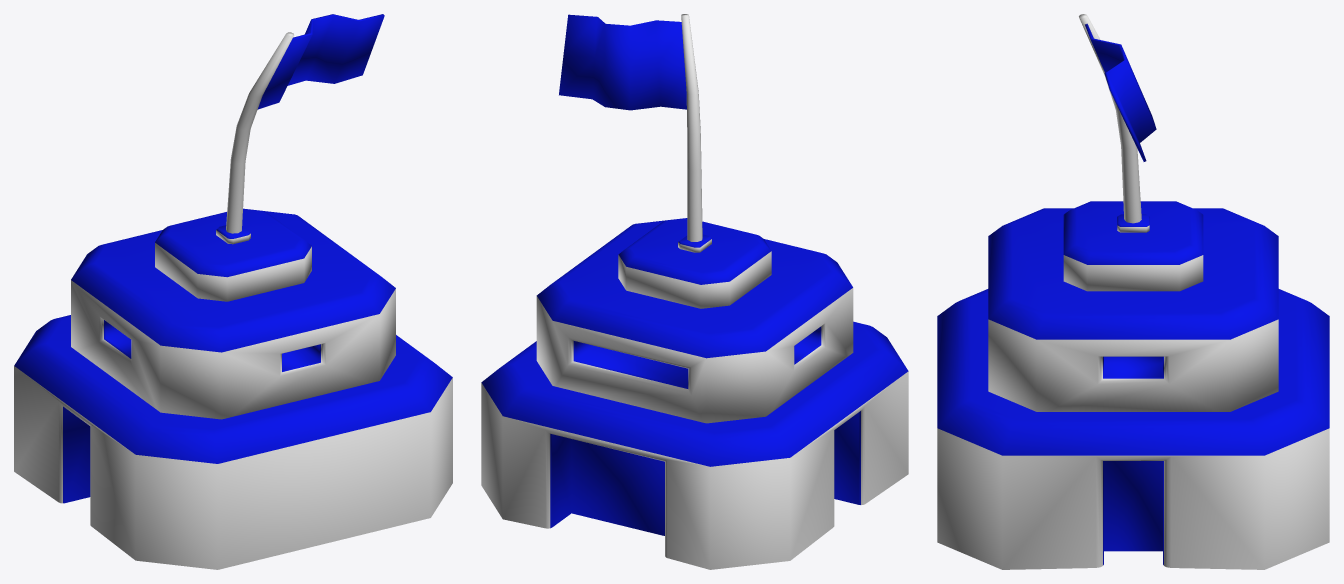
Rendered from Military Build.fbx.
3 renders of one model, left to right at view 1: azimuth 30°, elevation 25°; view 2: azimuth 150°, elevation 25°; view 3: azimuth 270°, elevation 25°, orthographic. The views are drawn at different scales.
Parts seen in each view (by area): view 1: Military Build; view 2: Military Build; view 3: Military Build.
Boxes of the visible parts, x1,y1,x2,y2 form: Military Build: (14, 14, 452, 569); Military Build: (481, 14, 908, 569); Military Build: (937, 14, 1329, 569).
Size of the model in its own units: 2.62 by 3.58 by 2.6.
